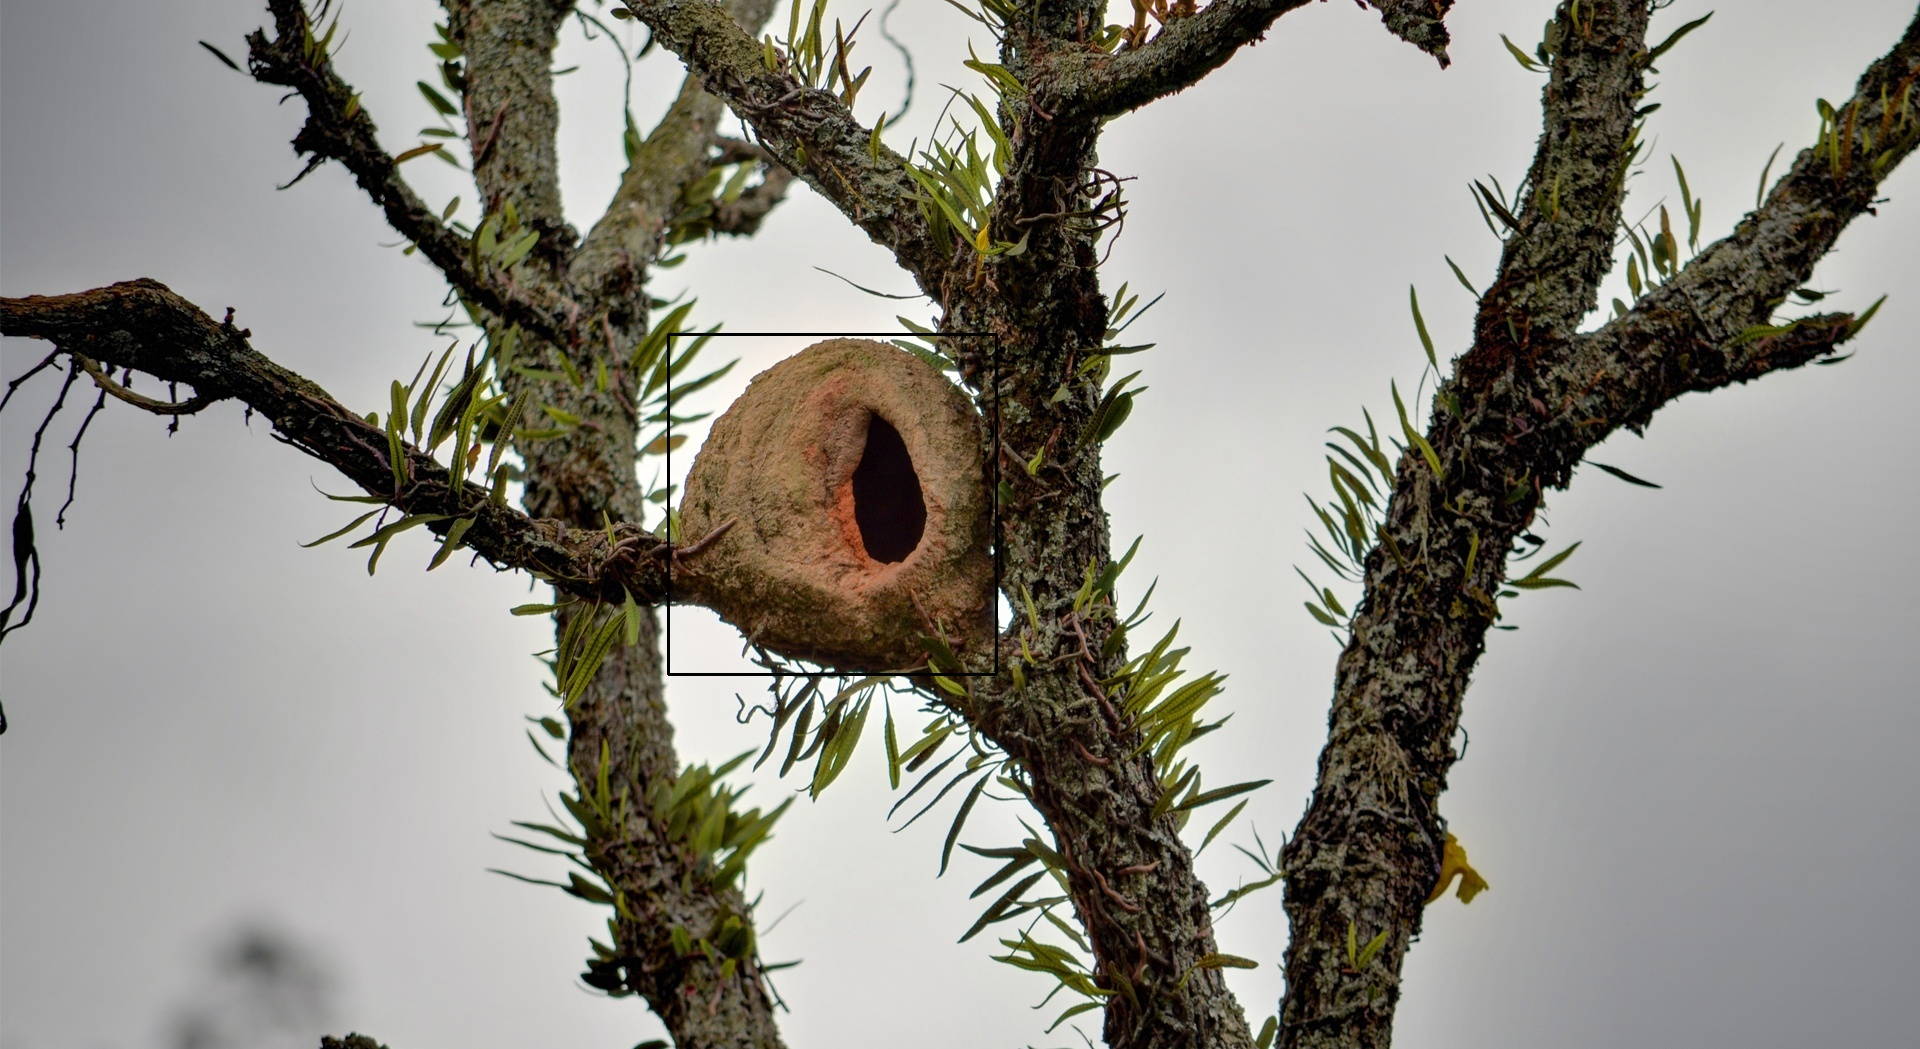bird-nest: (683, 332, 1024, 667)
